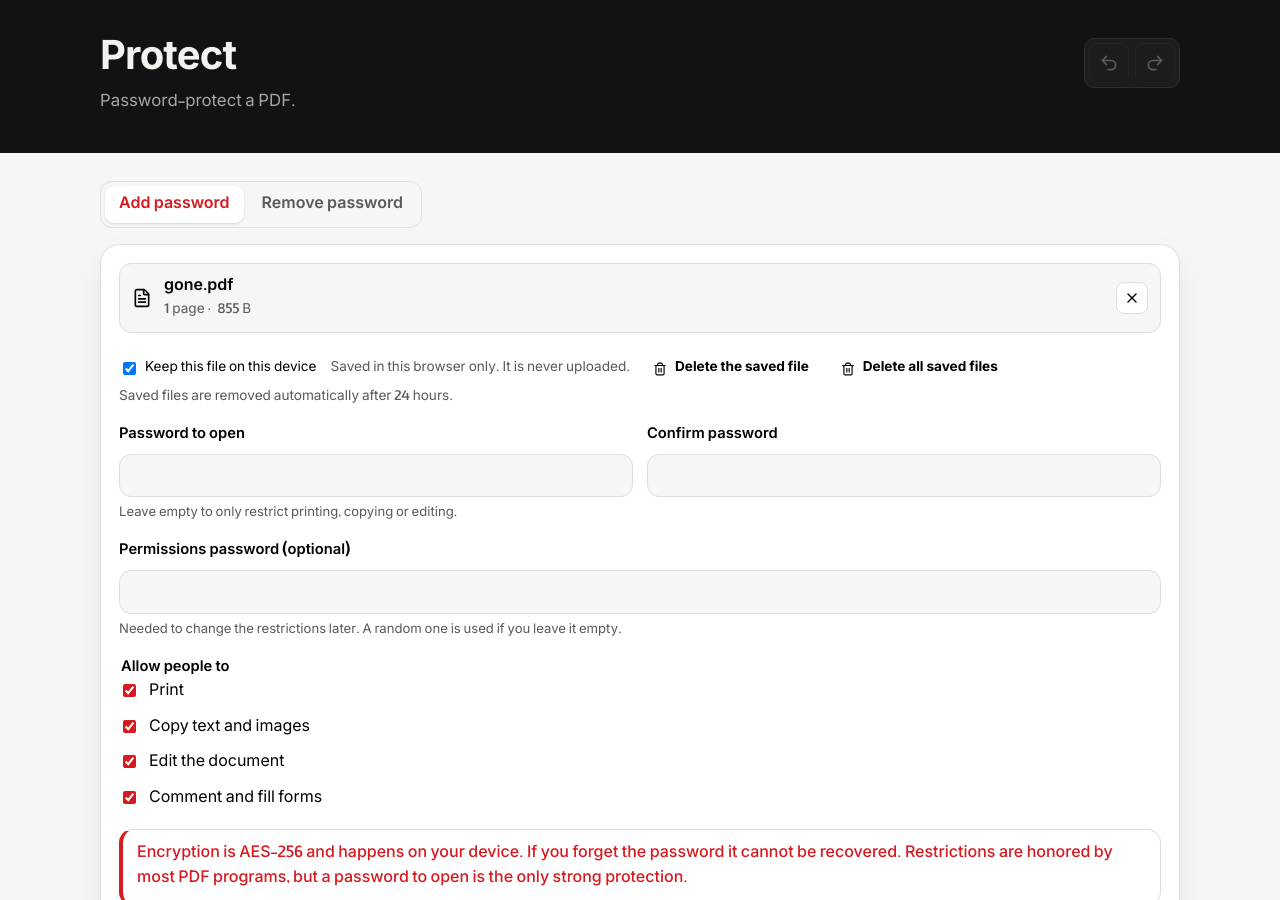
Test case: keeping the opened PDF on this device › deletes the saved copy and closes the file from the delete button
Earlier steps of the test are not shown.
Check: the text "gone.pdf" is shown, box [164,276,234,298]
Click the button "Delete the saved file".
click(731, 369)  # box [644,355,818,383]
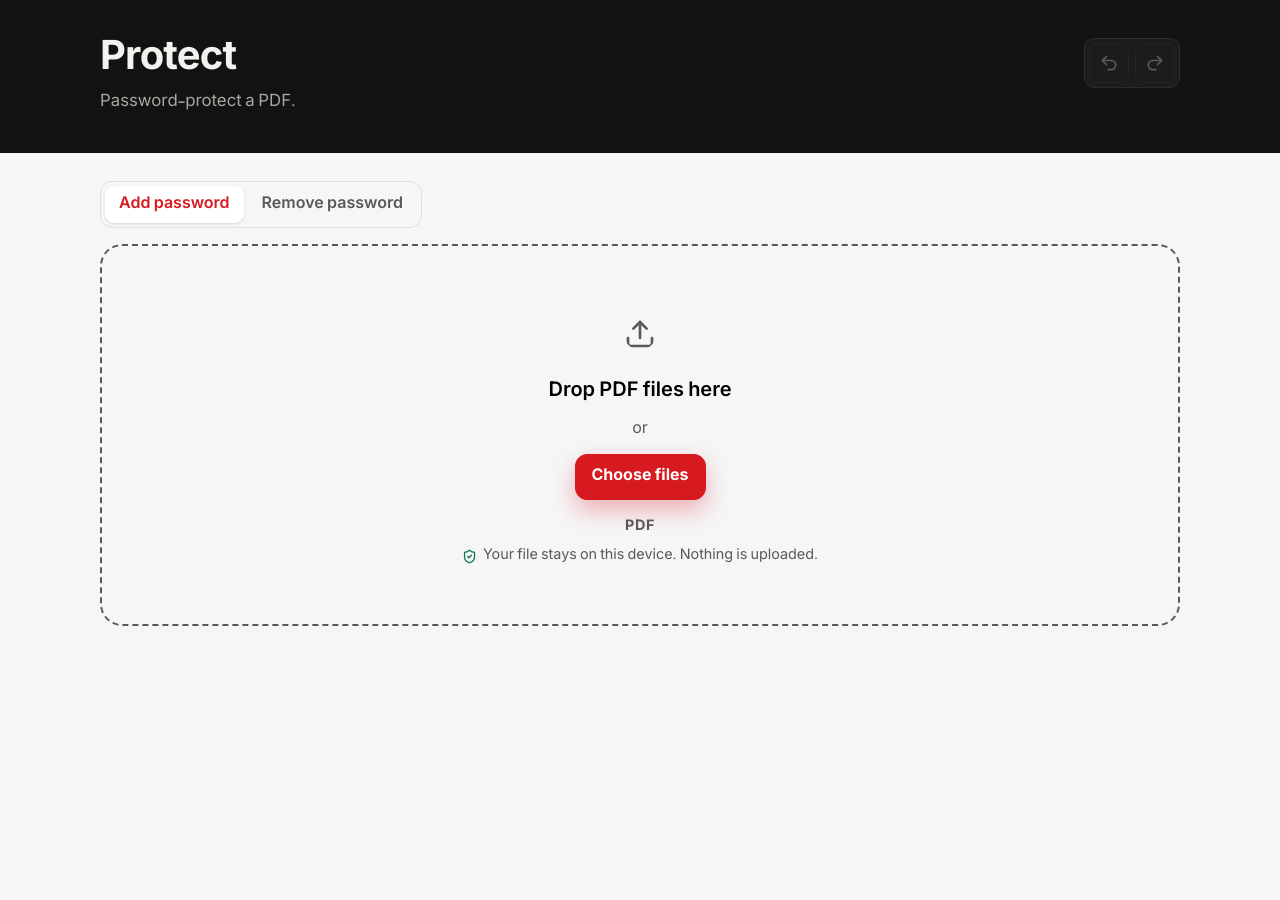
Check: the text "gone.pdf" is gone
